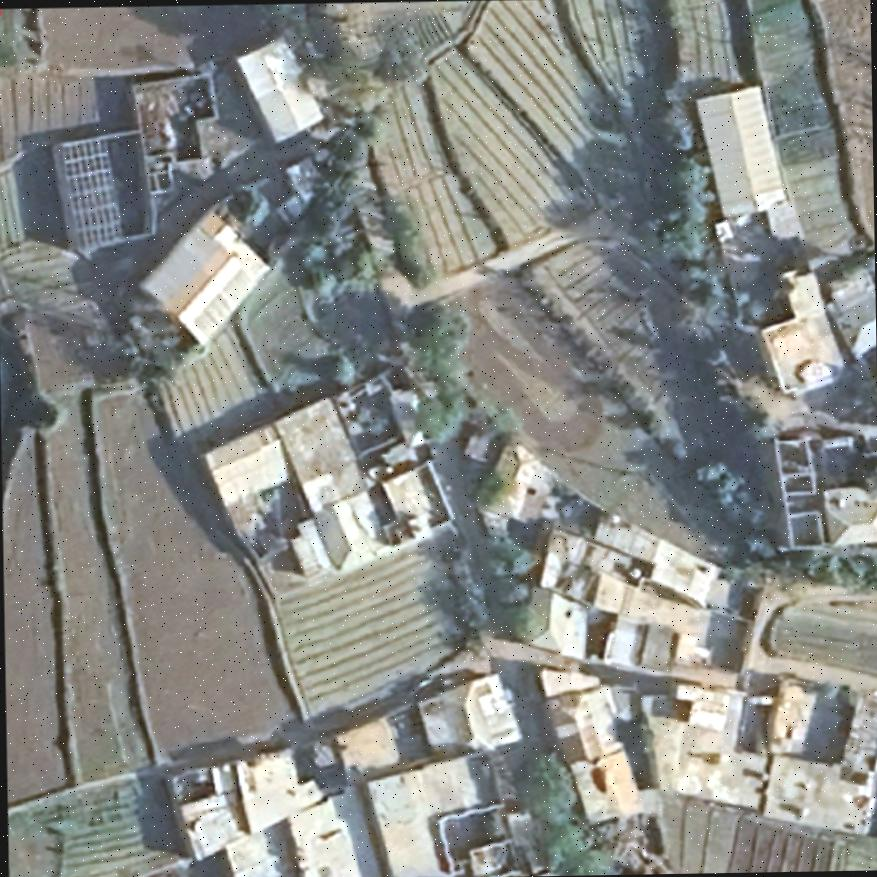Solarpanel: (54, 134, 123, 251)
